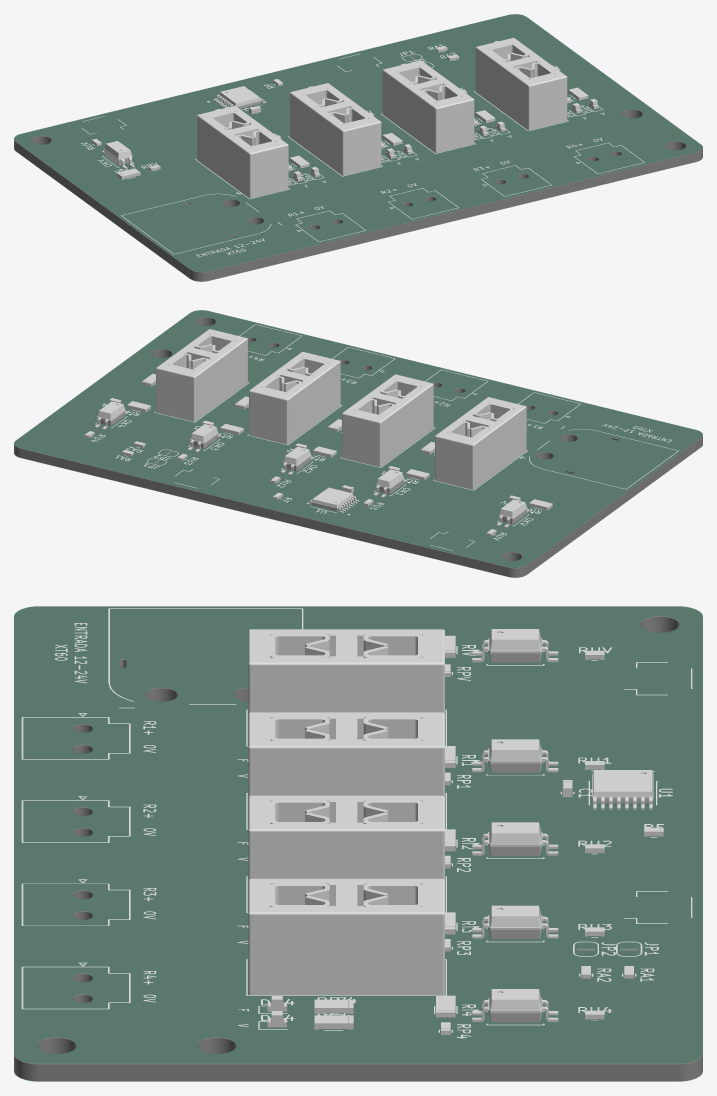
The model's file is AP_Dist4.glb.
3 views of the same model, one above another, from view 1: azimuth 30°, elevation 25°; view 2: azimuth 150°, elevation 25°; view 3: azimuth 270°, elevation 25° (orthographic). The views are drawn at different scales.
Visible parts, largest first — view 1: =>[0:1:1:13], =>[0:1:1:11], F3, F2, F1, F4, =>[0:1:1:9], U1, =>[0:1:1:12], OKV; view 2: =>[0:1:1:13], =>[0:1:1:11], F3, F4, F1, F2, =>[0:1:1:9], U1, =>[0:1:1:12], OK2, OK1, OK4 (+2 smaller); view 3: =>[0:1:1:13], =>[0:1:1:11], F4, F2, F1, F3, =>[0:1:1:9], U1, OKV, OK4, OK2, OK1 (+1 smaller).
Part boxes in pixels (<box>): =>[0:1:1:13]: <box>14,15,702,281</box>; =>[0:1:1:11]: <box>14,14,702,271</box>; F3: <box>382,60,474,152</box>; F2: <box>289,83,381,175</box>; F1: <box>196,105,288,198</box>; F4: <box>475,37,567,130</box>; =>[0:1:1:9]: <box>80,44,644,257</box>; U1: <box>213,86,266,108</box>; =>[0:1:1:12]: <box>14,149,702,281</box>; OKV: <box>101,141,134,169</box>; =>[0:1:1:13]: <box>14,311,702,577</box>; =>[0:1:1:11]: <box>14,310,702,567</box>; F3: <box>249,351,340,444</box>; F4: <box>156,329,247,421</box>; F1: <box>435,397,526,489</box>; F2: <box>342,374,433,466</box>; =>[0:1:1:9]: <box>91,324,678,550</box>; U1: <box>306,487,359,513</box>; =>[0:1:1:12]: <box>14,445,702,577</box>; OK2: <box>280,446,313,475</box>; OK1: <box>373,469,406,497</box>; OK4: <box>94,401,127,429</box>; =>[0:1:1:13]: <box>14,607,702,1081</box>; =>[0:1:1:11]: <box>14,606,702,1063</box>; F4: <box>248,878,444,994</box>; F2: <box>248,712,444,796</box>; F1: <box>248,629,444,713</box>; F3: <box>248,795,444,879</box>; =>[0:1:1:9]: <box>21,608,692,1038</box>; U1: <box>592,770,653,809</box>; OKV: <box>472,629,558,662</box>; OK4: <box>472,989,558,1022</box>; OK2: <box>472,822,558,855</box>; OK1: <box>472,739,558,772</box>.
Size of the model in its own units: 0.088 by 0.0102 by 0.056.
